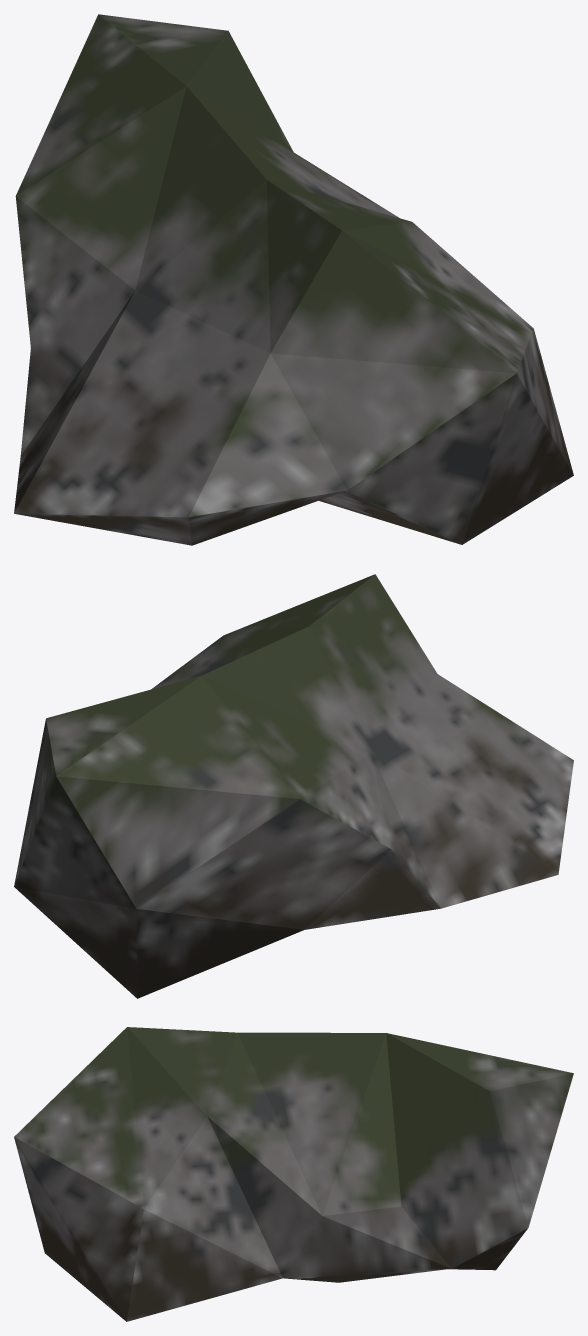
The model's file is Rock_02.fbx.
3 views of the same model, one above another, from view 1: azimuth 30°, elevation 25°; view 2: azimuth 150°, elevation 25°; view 3: azimuth 270°, elevation 25° (orthographic). The views are drawn at different scales.
Visible parts, largest first — view 1: Rock_02; view 2: Rock_02; view 3: Rock_02.
Part boxes in pixels (<box>): Rock_02: <box>14,14,573,545</box>; Rock_02: <box>14,574,573,998</box>; Rock_02: <box>14,1027,573,1321</box>.
Bounding box in the file's own units: 202 × 129 × 272.
Materials: 1 (1 with a texture image).
